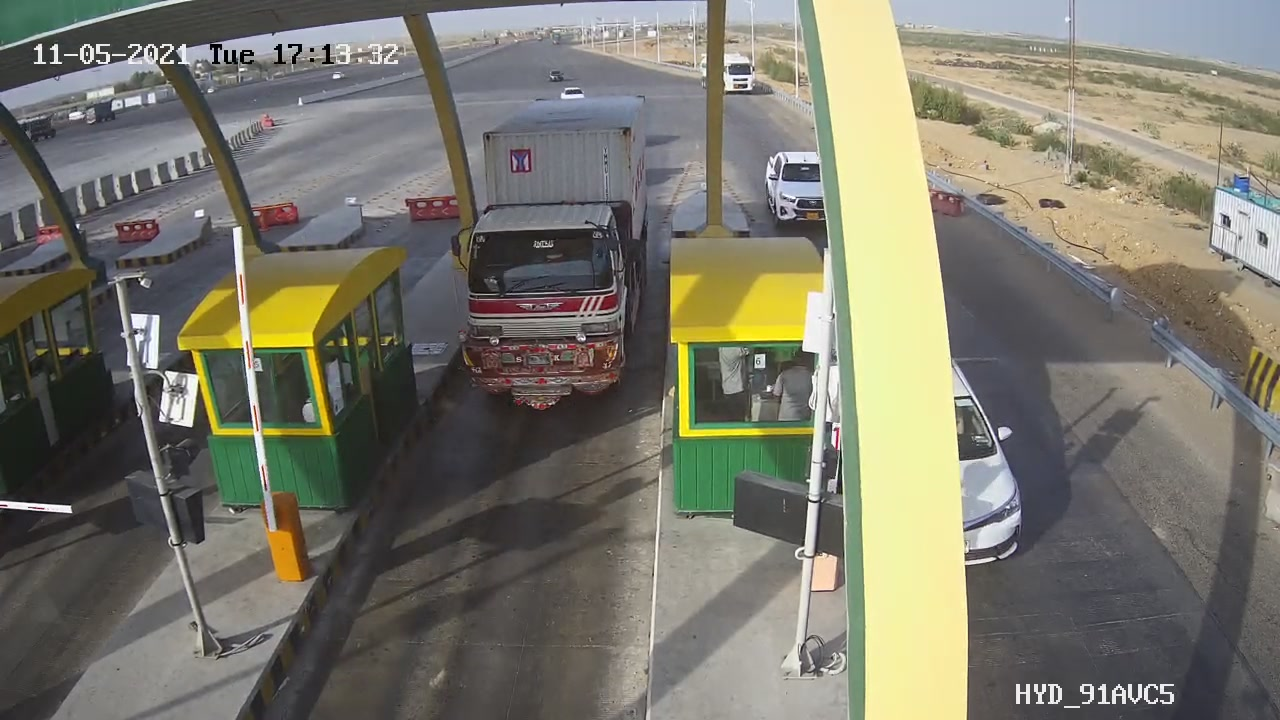F6: (434, 79, 670, 434)
